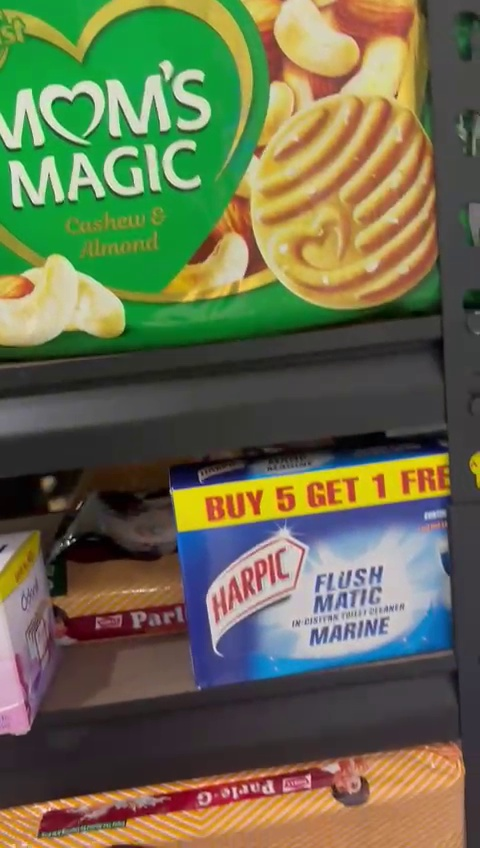Harpic: (170, 464, 449, 658)
